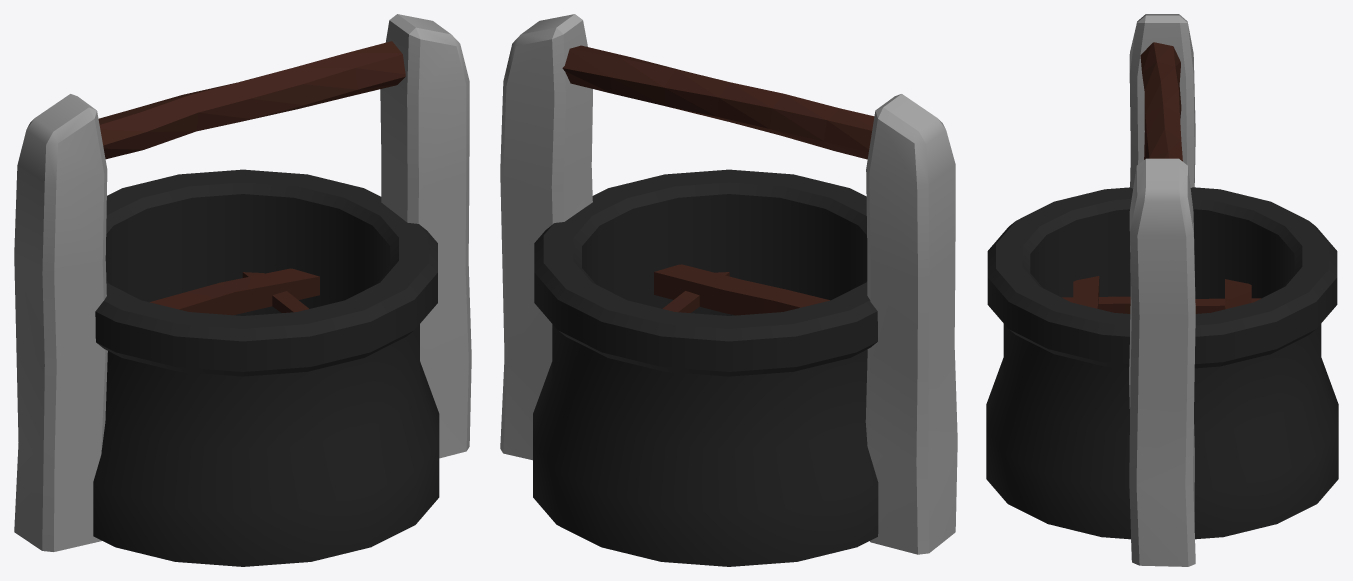
Rendered from well.FBX.
The picture shows the model from 3 angles, left to right: view 1: azimuth 30°, elevation 25°; view 2: azimuth 150°, elevation 25°; view 3: azimuth 270°, elevation 25°; orthographic projection. The views are drawn at different scales.
Parts seen in each view (by area): view 1: well; view 2: well; view 3: well.
Boxes of the visible parts, x1,y1,x2,y2 form: well: [14, 14, 471, 566]; well: [500, 14, 957, 566]; well: [986, 14, 1338, 566].
Size of the model in its own units: 163 by 156 by 129.
